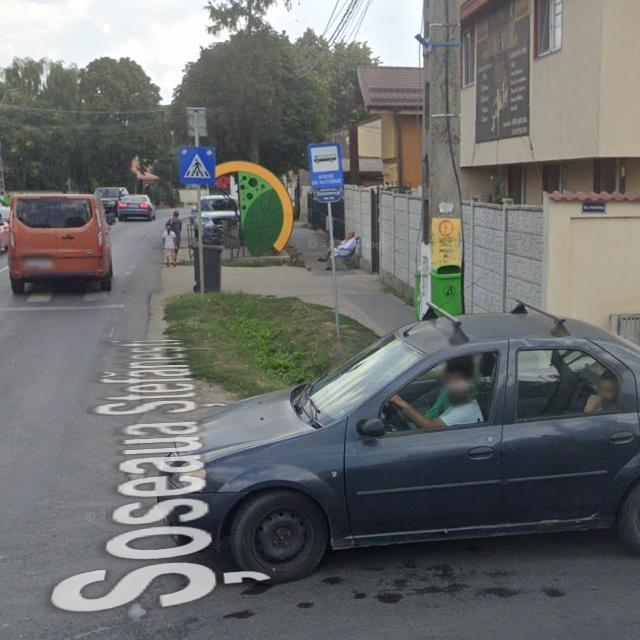info_crosswalk: (179, 146, 216, 184)
